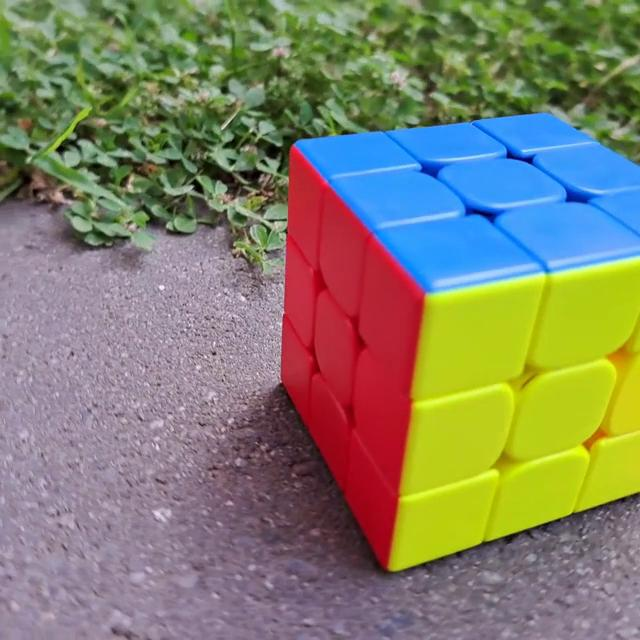rubix_cube: (269, 105, 640, 577)
